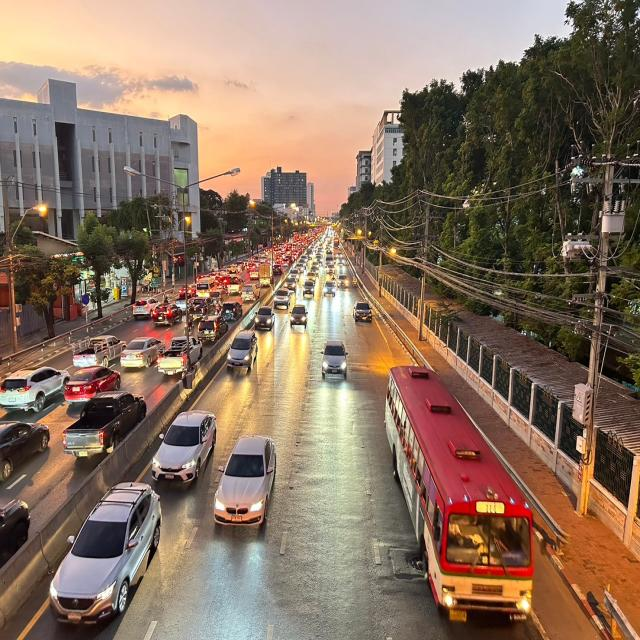bus: (382, 356, 540, 640)
